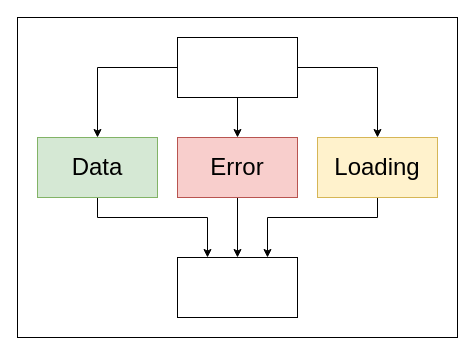
Some shapes in this 475 by 355 pixel diagram are drawn without their labels. Each missing label, with the centre of its shape:
"Observer" belongs at point 237,287.
"State" belongs at point 237,67.
